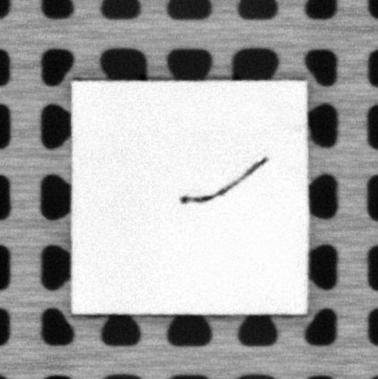DIE_INK: (180, 155, 268, 206)
